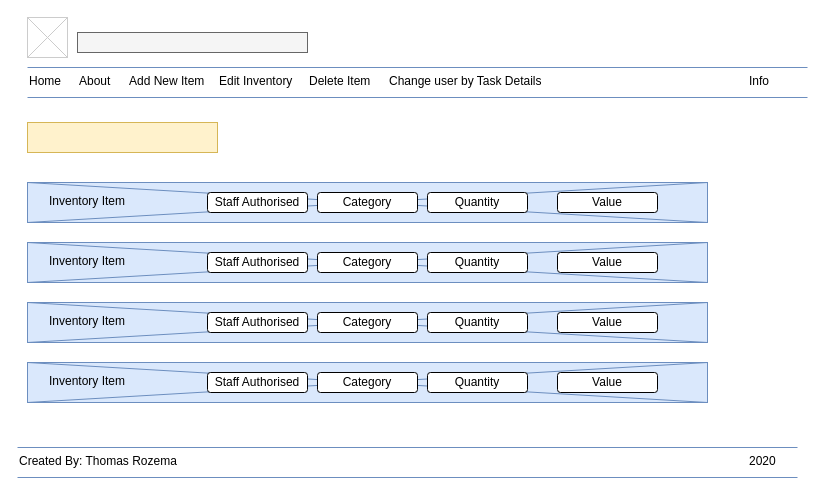
The diagram is 825 pixels wide and 500 high, and some of its shapes have lost their labels. The centre of each missing label's shape, as x and y in pixels:
Filter by Category: the point at 122,137
Inventory Management App: the point at 192,42
Website Logo: the point at 47,37
